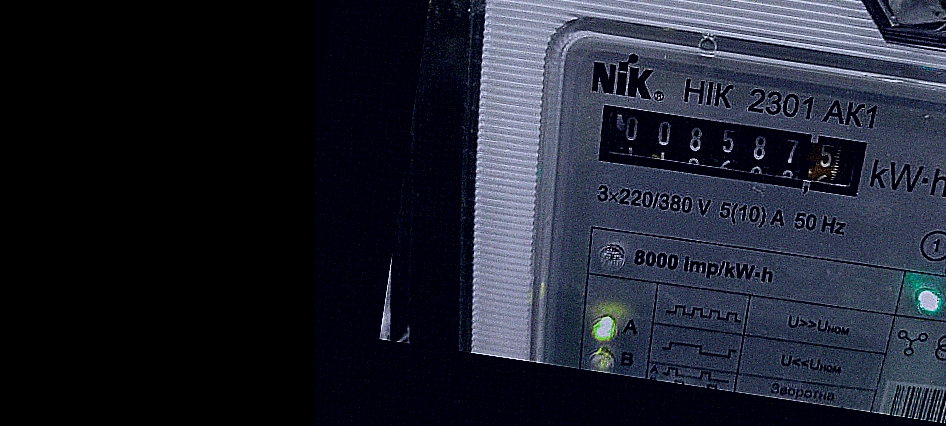0: (621, 111, 642, 142), (654, 117, 675, 147)
5: (817, 140, 838, 171), (718, 125, 739, 155)
7: (781, 133, 802, 166)
8: (749, 130, 771, 162), (686, 122, 706, 152)
screen: (576, 85, 887, 211)
